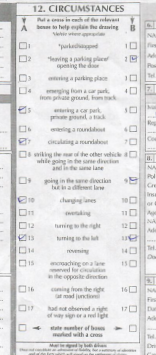check: (127, 175, 138, 186), (128, 233, 138, 244), (17, 195, 28, 205), (18, 137, 28, 147), (129, 54, 139, 64), (18, 105, 27, 116), (17, 233, 28, 242)
